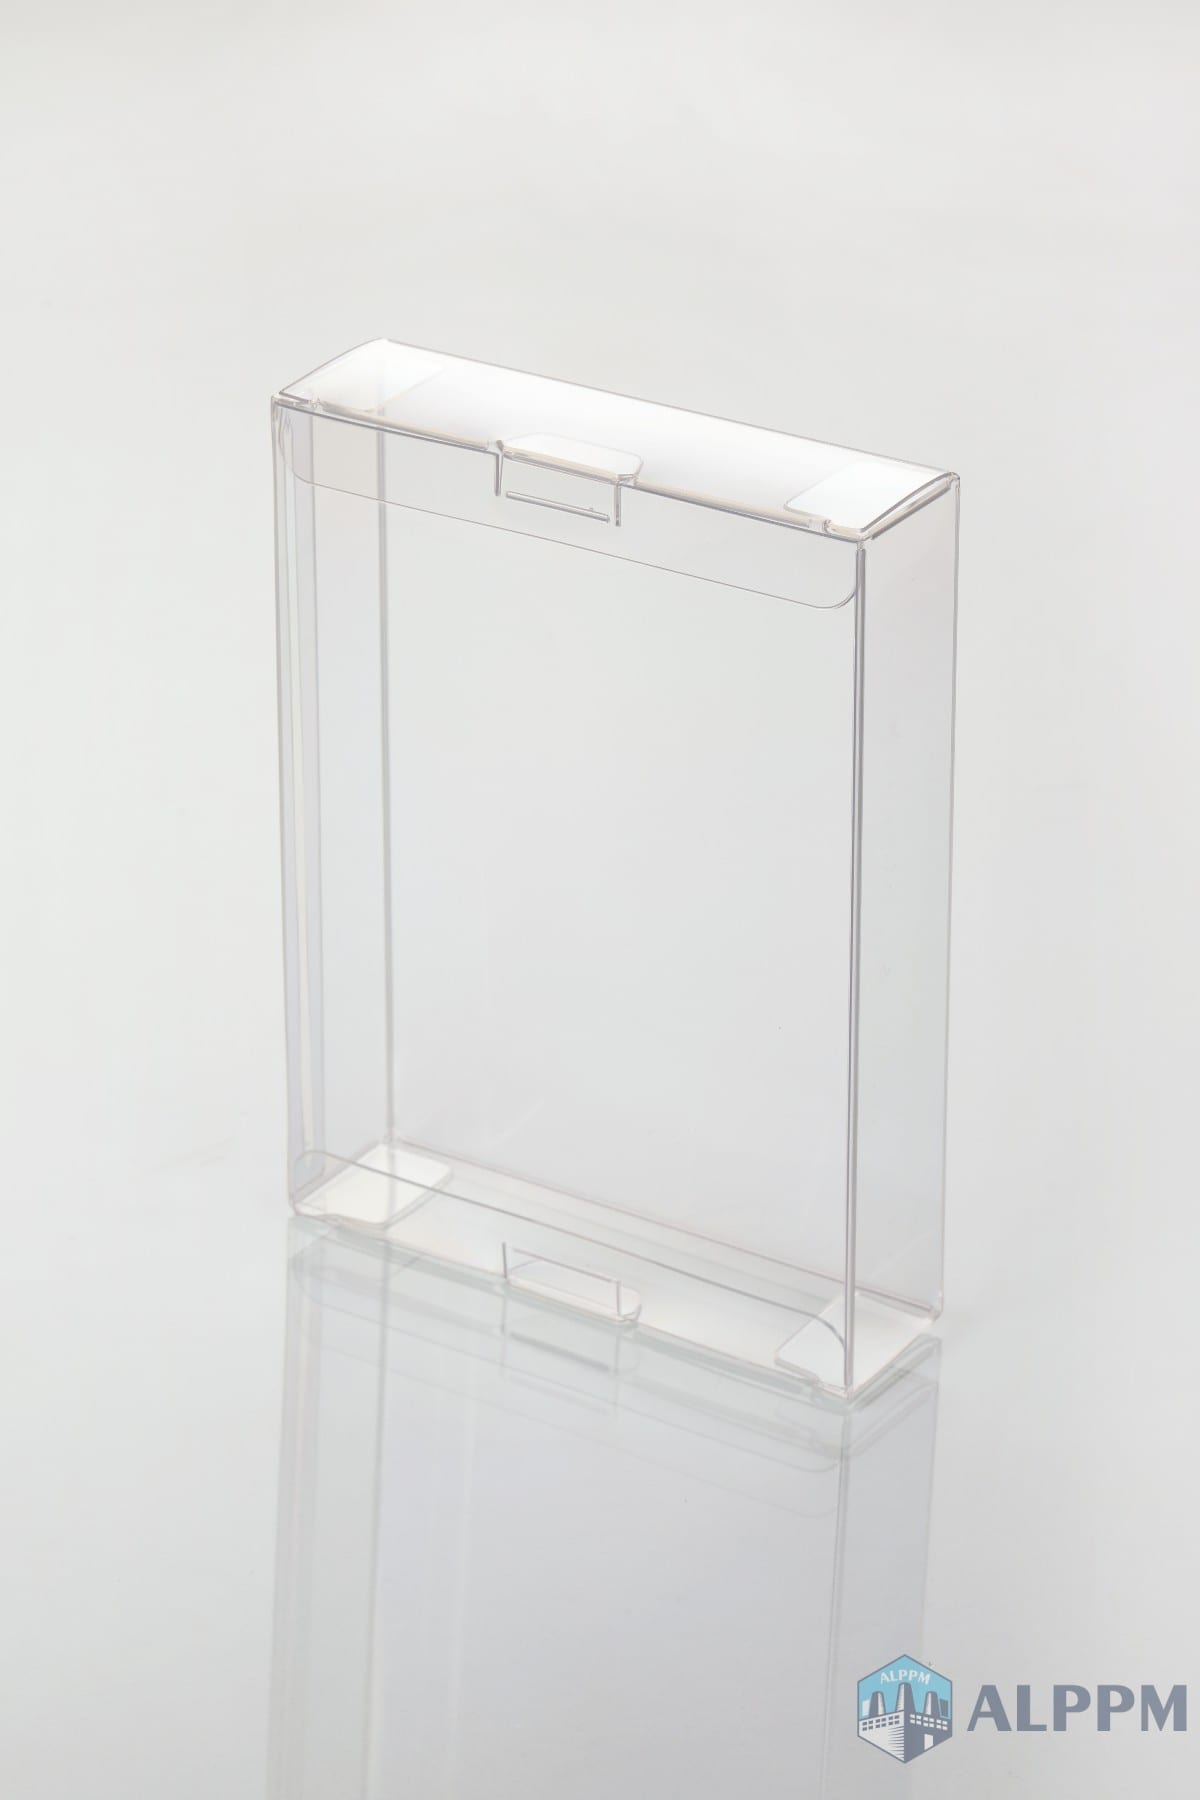PlasticBox: (249, 328, 980, 1471)
